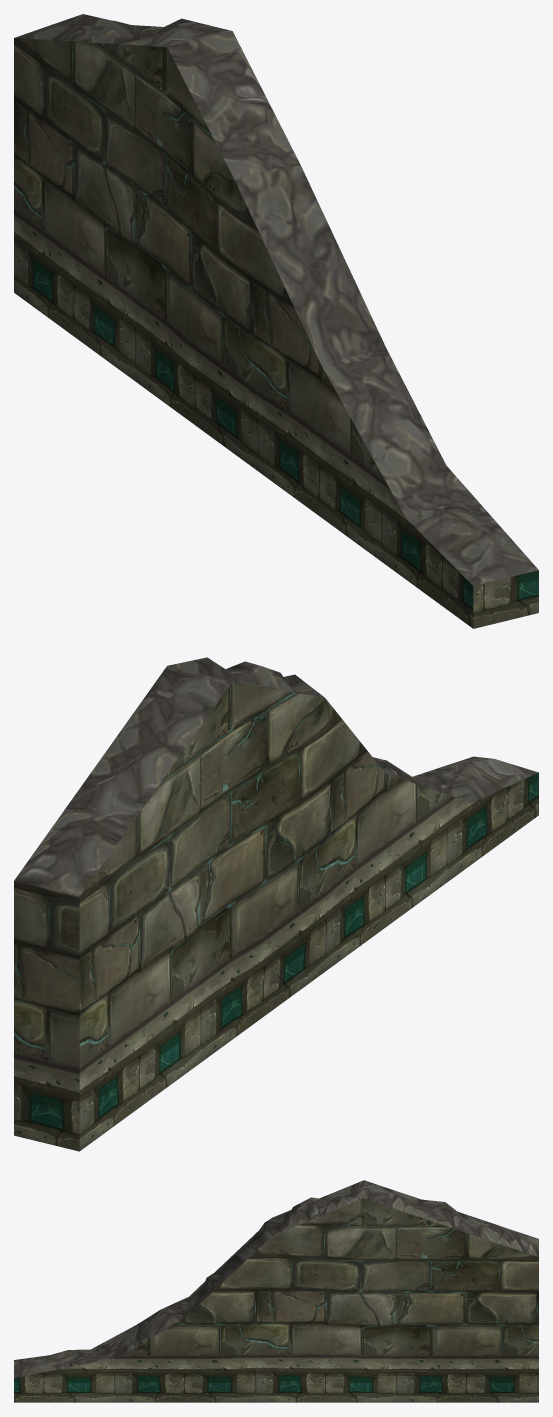
File: F_waiqiang005.fbx
3 renders of one model, top to bottom at view 1: azimuth 30°, elevation 25°; view 2: azimuth 150°, elevation 25°; view 3: azimuth 270°, elevation 25°, orthographic. The views are drawn at different scales.
Visible parts, largest first — view 1: F_waiqiang005; view 2: F_waiqiang005; view 3: F_waiqiang005.
Part boxes in pixels (x1,y1,x2,y2): F_waiqiang005: (14, 14, 538, 628); F_waiqiang005: (14, 657, 538, 1151); F_waiqiang005: (14, 1180, 538, 1402).
Bounding box in the file's own units: 58.16 × 255 × 594.
